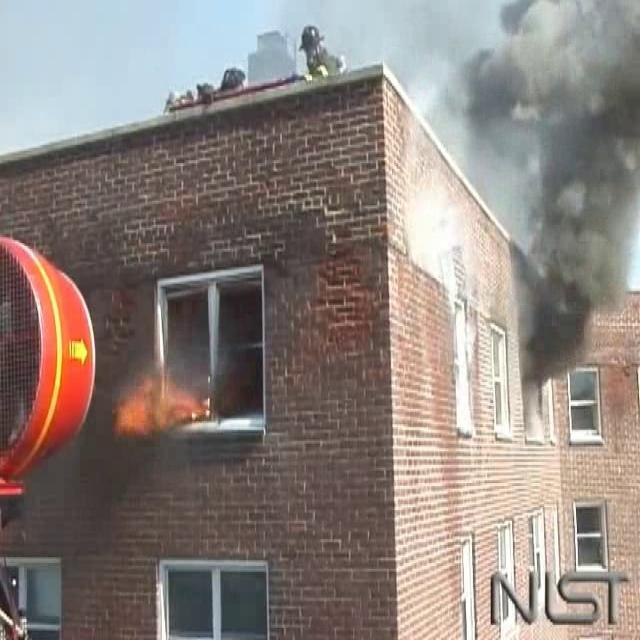smoke: (463, 0, 639, 385)
